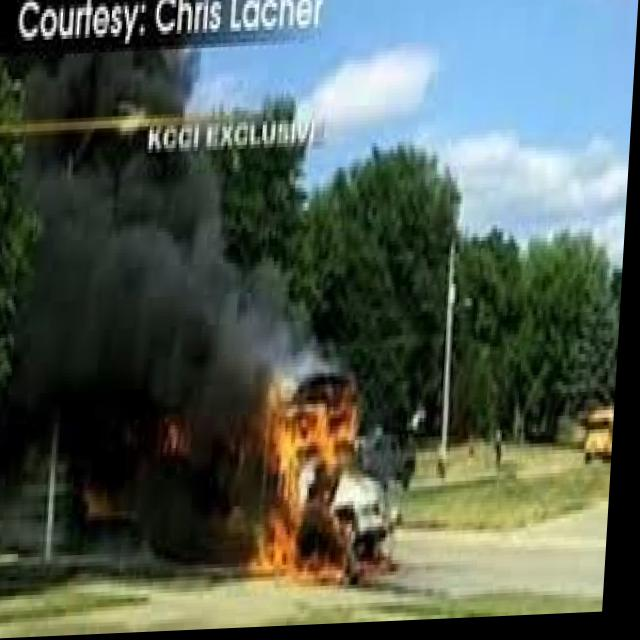fire: (264, 383, 370, 501), (261, 511, 392, 603), (159, 404, 203, 470)
